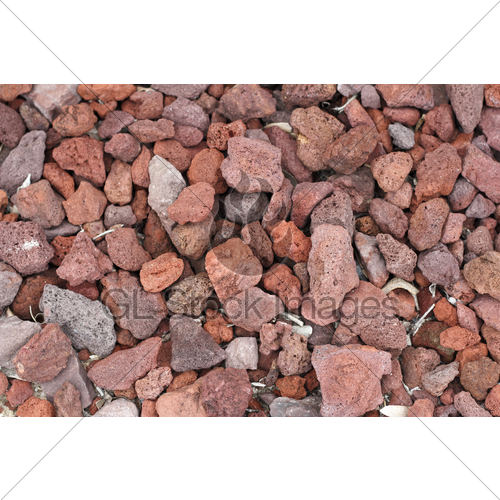volcanic_rock: (34, 280, 120, 365), (306, 343, 395, 419), (304, 219, 362, 327), (152, 360, 248, 421), (214, 131, 291, 195), (285, 104, 349, 180), (83, 336, 168, 392), (406, 146, 471, 208), (50, 230, 118, 284), (10, 327, 71, 385), (321, 123, 388, 174), (166, 313, 229, 366), (1, 221, 55, 279), (1, 127, 50, 189), (9, 176, 64, 230), (402, 195, 452, 254), (50, 132, 102, 187), (374, 228, 420, 284), (58, 178, 107, 227), (134, 254, 187, 294), (223, 328, 264, 379), (416, 360, 466, 400), (97, 128, 147, 166), (102, 155, 135, 205), (452, 87, 483, 135), (438, 323, 485, 352)
